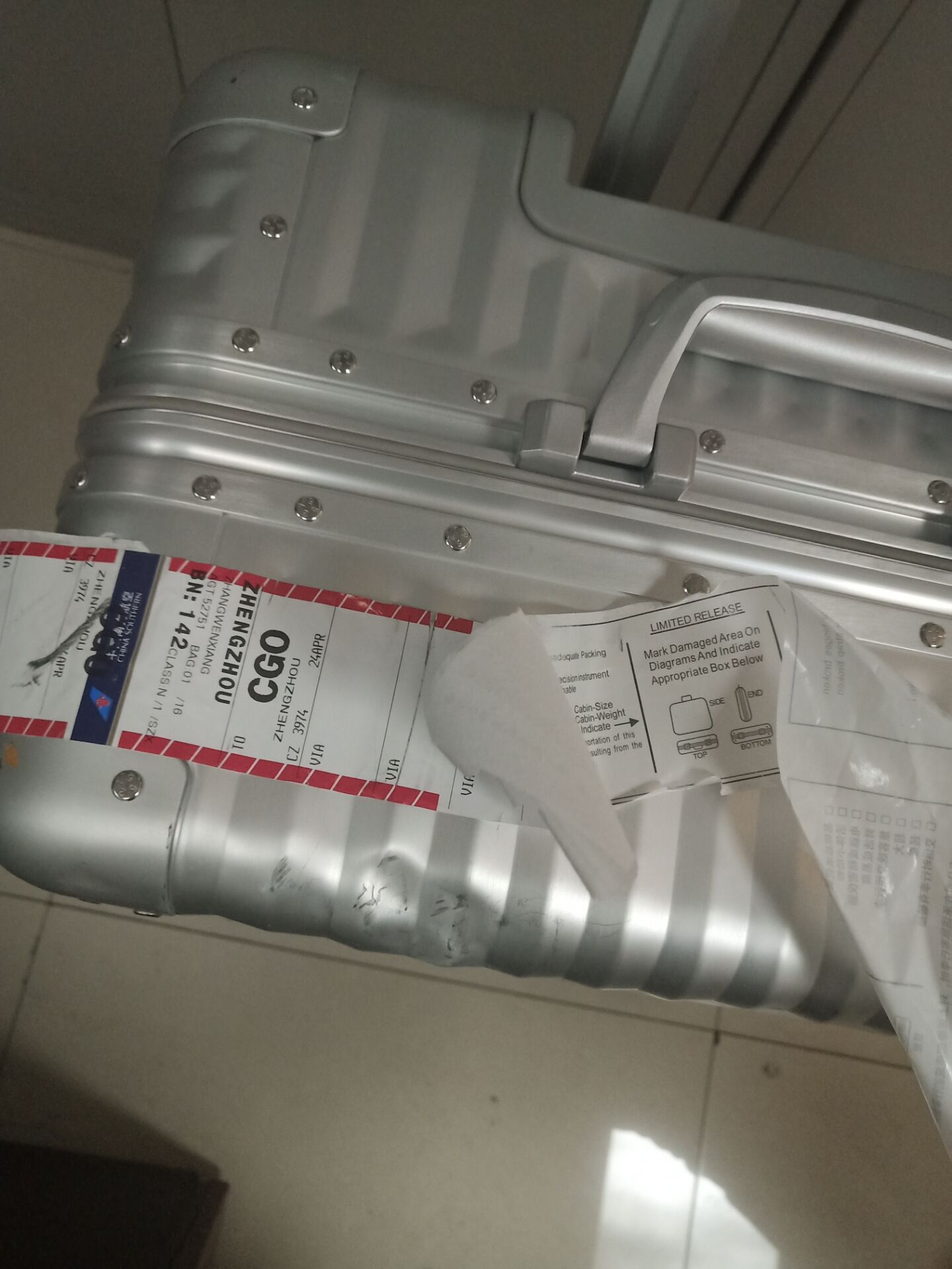rupture: (362, 847, 459, 965)
